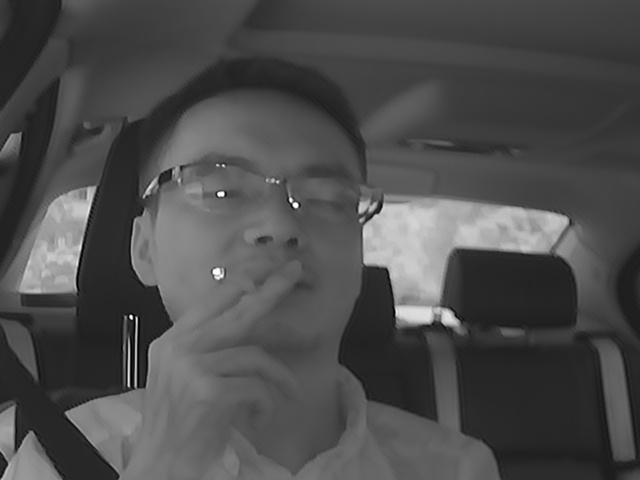hand: (159, 261, 303, 429)
